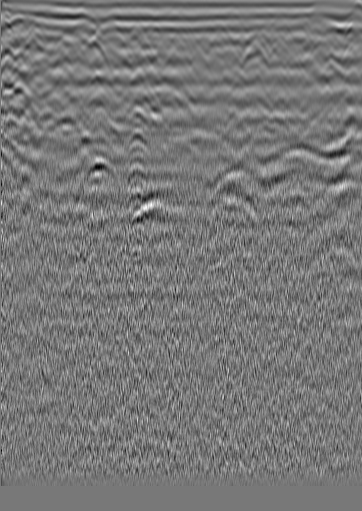가스: (77, 155, 120, 190)
상수: (304, 36, 324, 56)
오수: (23, 36, 43, 56)
우수: (184, 49, 204, 69)
